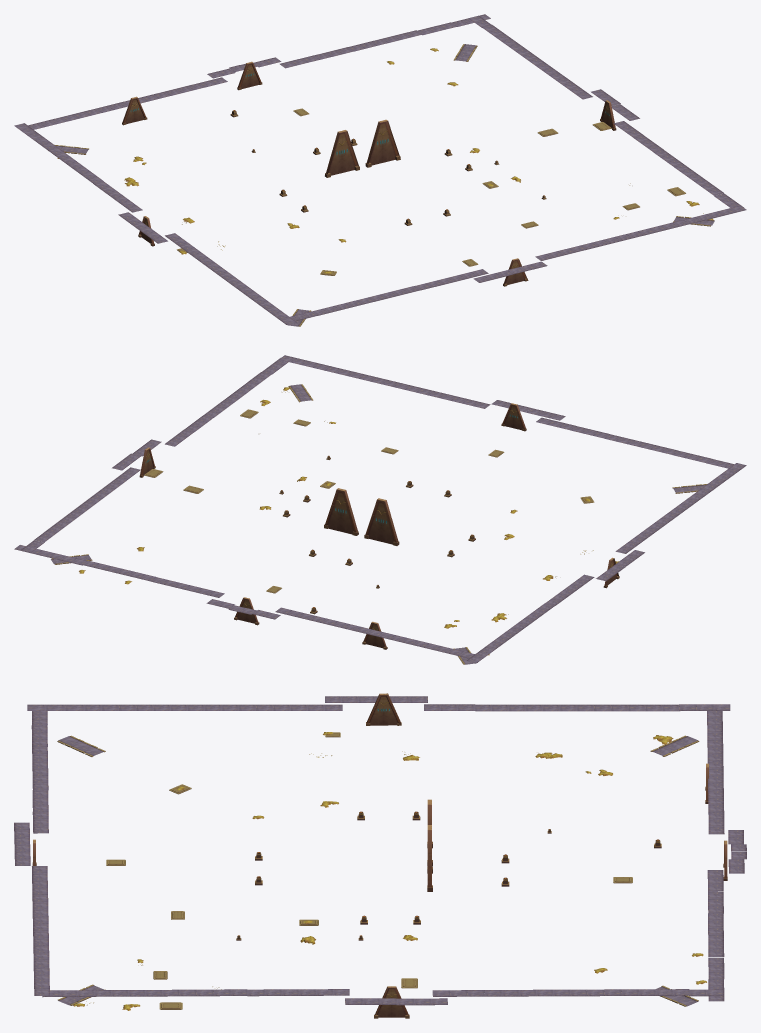
File: duate_baozang.fbx
3 views of the same model, one above another, from view 1: azimuth 30°, elevation 25°; view 2: azimuth 150°, elevation 25°; view 3: azimuth 270°, elevation 25° (orthographic). The views are drawn at different scales.
Parts seen in each view (by area): view 1: baozang; view 2: baozang; view 3: baozang.
Boxes of the visible parts, box(x1,y1,x2,y2) form: baozang: box(14, 14, 746, 326); baozang: box(14, 355, 746, 664); baozang: box(14, 693, 746, 1018).
Bounding box in the file's own units: 22087 × 2021 × 22124.
